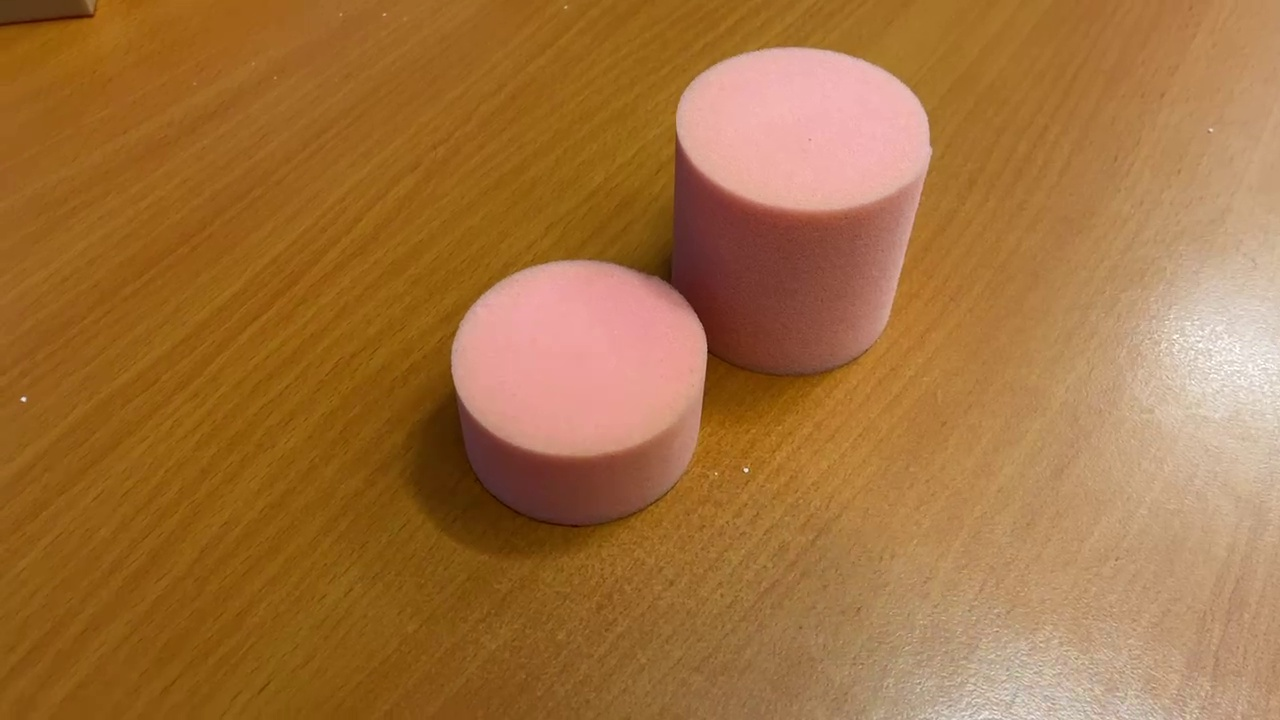Clyinder_short: (442, 251, 712, 530)
Cylinder: (666, 40, 934, 377)
